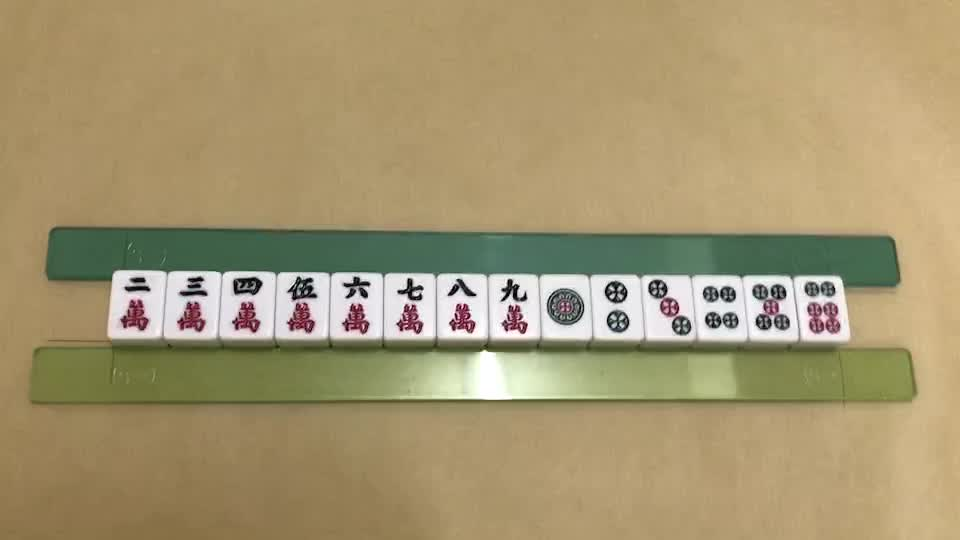1p: (548, 288, 583, 324)
2m: (115, 276, 152, 329)
2p: (604, 279, 630, 330)
3m: (171, 278, 207, 334)
3p: (650, 280, 689, 334)
4m: (229, 278, 263, 336)
4p: (704, 283, 738, 332)
5m: (285, 280, 319, 336)
5p: (753, 282, 792, 330)
6m: (340, 274, 377, 338)
6p: (803, 278, 840, 334)
7m: (400, 279, 430, 333)
8m: (443, 280, 481, 334)
9m: (500, 280, 531, 332)
